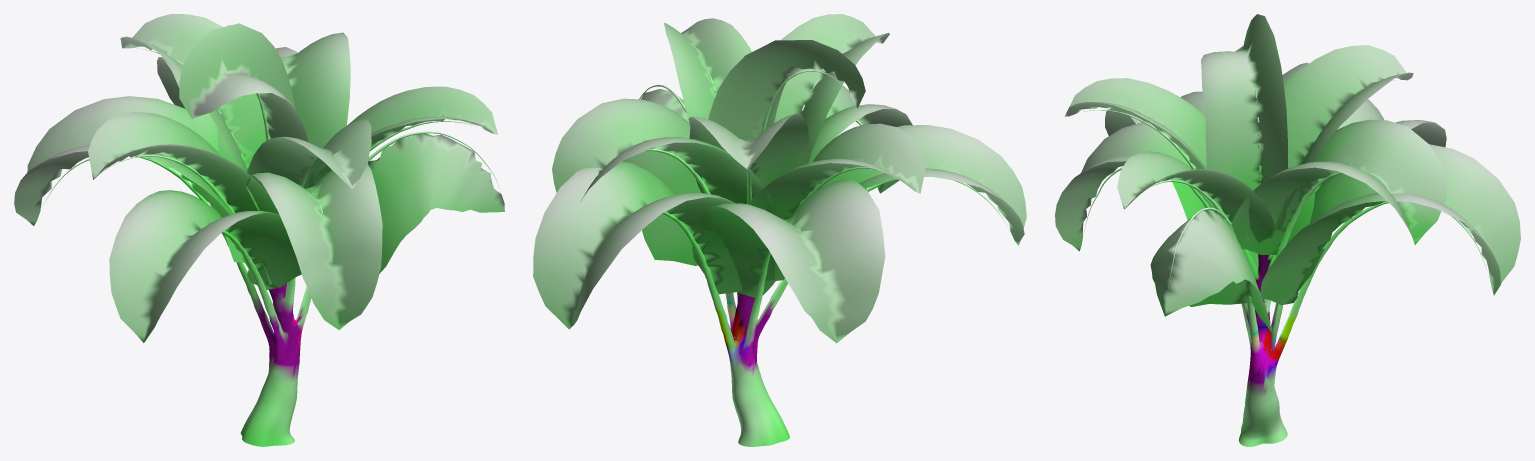
File: SM_Tropical_Fern_Var05_FBX.FBX
3 views of the same model, side by side, from view 1: azimuth 30°, elevation 25°; view 2: azimuth 150°, elevation 25°; view 3: azimuth 270°, elevation 25° (orthographic). The views are drawn at different scales.
Parts seen in each view (by area): view 1: SM_Tropical_Fern_Var05_LOD0; view 2: SM_Tropical_Fern_Var05_LOD0; view 3: SM_Tropical_Fern_Var05_LOD0.
Part boxes in pixels (x1,y1,x2,y2): SM_Tropical_Fern_Var05_LOD0: (14,14,504,446); SM_Tropical_Fern_Var05_LOD0: (533,14,1026,446); SM_Tropical_Fern_Var05_LOD0: (1055,14,1520,446).
Size of what is drawn, in the model's own units: 311 by 336 by 316.
